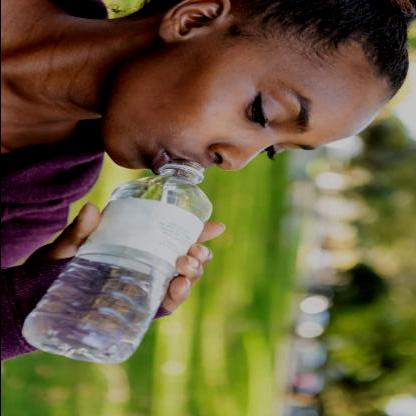bottle: (18, 156, 214, 366)
